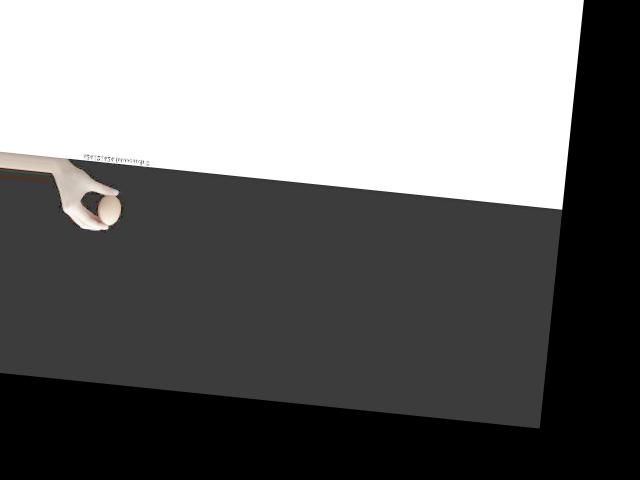egg: (96, 194, 122, 227)
